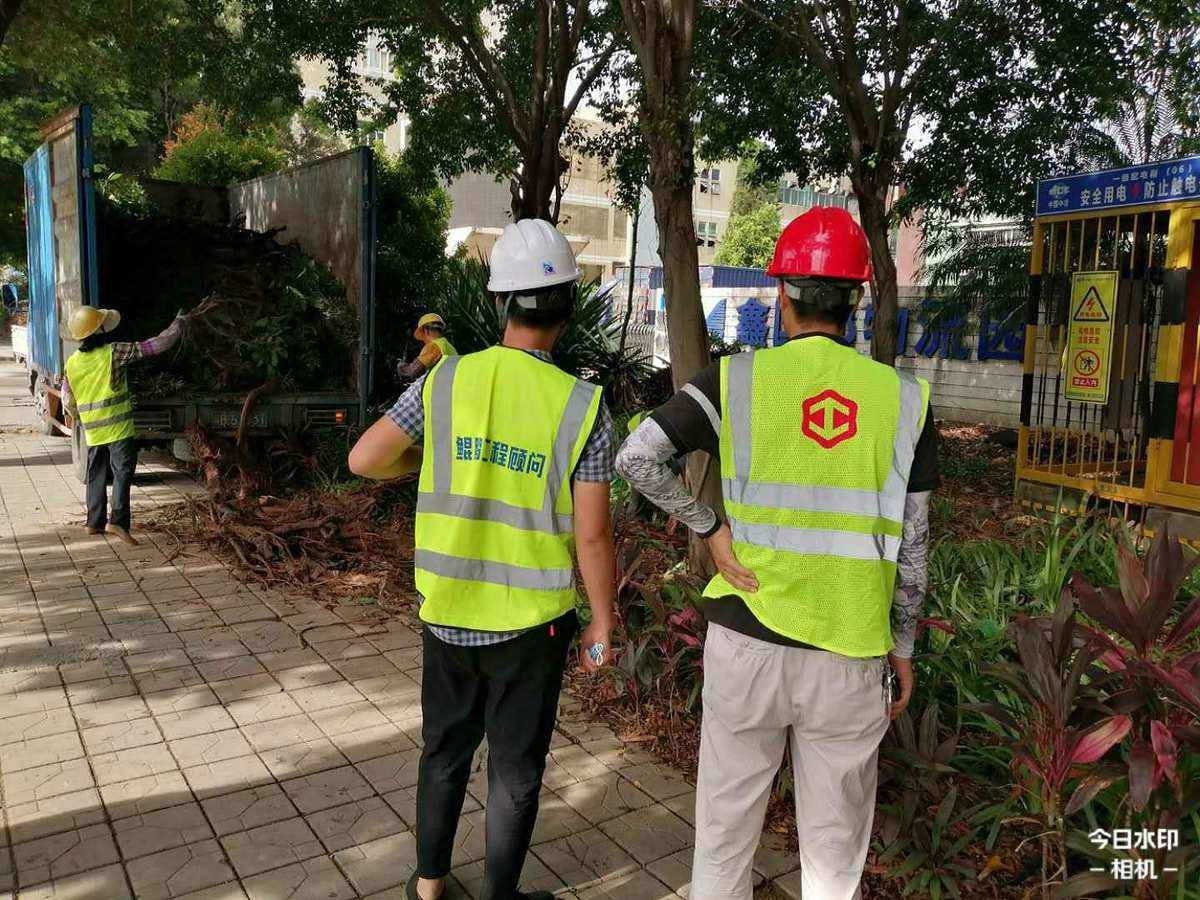person: (612, 203, 938, 900), (344, 216, 621, 900), (56, 299, 197, 548)
reflective_vest: (699, 335, 932, 661), (411, 342, 605, 632), (66, 344, 135, 450)
safety_helmet: (764, 206, 877, 336), (485, 215, 587, 350), (65, 302, 108, 349), (410, 308, 444, 341)
